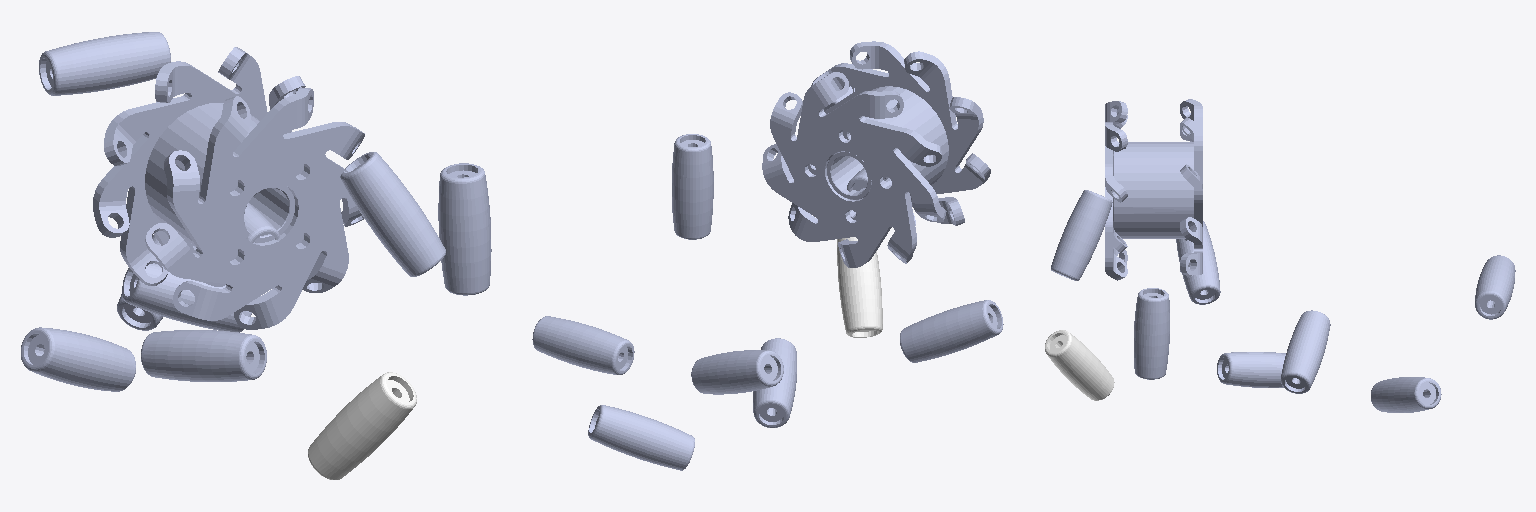
robot.urdf — Mecanum - Right.URDF:
<?xml version="1.0" encoding="utf-8"?>
<!-- This URDF was automatically created by SolidWorks to URDF Exporter! Originally created by [author] ([email redacted]) 
     Commit Version: 1.6.0-4-g7f85cfe  Build Version: 1.6.7995.38578
     For more information, please see http://wiki.ros.org/sw_urdf_exporter -->
<robot
  name="Mecanum - Right.URDF">
  <link
    name="Right_Base_Link">
    <inertial>
      <origin
        xyz="0.0046579 -6.9389E-18 -5.5836E-18"
        rpy="0 0 0" />
      <mass
        value="0.011093" />
      <inertia
        ixx="1.3992E-06"
        ixy="8.9634E-22"
        ixz="2.6007E-21"
        iyy="9.4923E-07"
        iyz="-1.3524E-22"
        izz="9.4923E-07" />
    </inertial>
    <visual>
      <origin
        xyz="0 0 0"
        rpy="0 0 0" />
      <geometry>
        <mesh
          filename="package://Mecanum - Right.URDF/meshes/Right_Base_Link.STL" />
      </geometry>
      <material
        name="">
        <color
          rgba="0.79216 0.81961 0.93333 1" />
      </material>
    </visual>
    <collision>
      <origin
        xyz="0 0 0"
        rpy="0 0 0" />
      <geometry>
        <mesh
          filename="package://Mecanum - Right.URDF/meshes/Right_Base_Link.STL" />
      </geometry>
    </collision>
  </link>
  <link
    name="Mecanum_Roller_Link1">
    <inertial>
      <origin
        xyz="-7.14706072102445E-16 0 0"
        rpy="0 0 0" />
      <mass
        value="0.00104310145784987" />
      <inertia
        ixx="9.96758957260103E-09"
        ixy="4.75628852217991E-24"
        ixz="-2.48154183765908E-24"
        iyy="3.79225492604176E-08"
        iyz="0"
        izz="3.79225492604175E-08" />
    </inertial>
    <visual>
      <origin
        xyz="0 0 0"
        rpy="0 0 0" />
      <geometry>
        <mesh
          filename="package://Mecanum - Right.URDF/meshes/Mecanum_Roller_Link1.STL" />
      </geometry>
      <material
        name="">
        <color
          rgba="0.792156862745098 0.819607843137255 0.933333333333333 1" />
      </material>
    </visual>
    <collision>
      <origin
        xyz="0 0 0"
        rpy="0 0 0" />
      <geometry>
        <mesh
          filename="package://Mecanum - Right.URDF/meshes/Mecanum_Roller_Link1.STL" />
      </geometry>
    </collision>
  </link>
  <joint
    name="Mecanum_Roller_1"
    type="continuous">
    <origin
      xyz="0.0046501 -0.016264 -0.0057506"
      rpy="-2.4237 -0.72678 -0.32955" />
    <parent
      link="Right_Base_Link" />
    <child
      link="Mecanum_Roller_Link1" />
    <axis
      xyz="-1 0 0" />
  </joint>
  <link
    name="Mecanum_Roller_Link2">
    <inertial>
      <origin
        xyz="-7.07767178198537E-16 1.73472347597681E-18 -1.73472347597681E-18"
        rpy="0 0 0" />
      <mass
        value="0.00104310145784987" />
      <inertia
        ixx="9.96758957260103E-09"
        ixy="3.72231275648862E-24"
        ixz="6.72084247699335E-24"
        iyy="3.79225492604175E-08"
        iyz="0"
        izz="3.79225492604176E-08" />
    </inertial>
    <visual>
      <origin
        xyz="0 0 0"
        rpy="0 0 0" />
      <geometry>
        <mesh
          filename="package://Mecanum - Right.URDF/meshes/Mecanum_Roller_Link2.STL" />
      </geometry>
      <material
        name="">
        <color
          rgba="0.792156862745098 0.819607843137255 0.933333333333333 1" />
      </material>
    </visual>
    <collision>
      <origin
        xyz="0 0 0"
        rpy="0 0 0" />
      <geometry>
        <mesh
          filename="package://Mecanum - Right.URDF/meshes/Mecanum_Roller_Link2.STL" />
      </geometry>
    </collision>
  </link>
  <joint
    name="Mecanum_Roller_2"
    type="continuous">
    <origin
      xyz="0.0046501 -0.0087625 -0.01486"
      rpy="-0.010439 -0.36137 -0.71372" />
    <parent
      link="Right_Base_Link" />
    <child
      link="Mecanum_Roller_Link2" />
    <axis
      xyz="-1 0 0" />
  </joint>
  <link
    name="Mecanum_Roller_Link3">
    <inertial>
      <origin
        xyz="-7.14706072102445E-16 -3.46944695195361E-18 6.93889390390723E-18"
        rpy="0 0 0" />
      <mass
        value="0.00104310145784987" />
      <inertia
        ixx="9.96758957203706E-09"
        ixy="-1.24077091882954E-24"
        ixz="-1.65436122510606E-24"
        iyy="3.79225492601356E-08"
        iyz="4.13590306276514E-24"
        izz="3.79225492601356E-08" />
    </inertial>
    <visual>
      <origin
        xyz="0 0 0"
        rpy="0 0 0" />
      <geometry>
        <mesh
          filename="package://Mecanum - Right.URDF/meshes/Mecanum_Roller_Link3.STL" />
      </geometry>
      <material
        name="">
        <color
          rgba="0.792156862745098 0.819607843137255 0.933333333333333 1" />
      </material>
    </visual>
    <collision>
      <origin
        xyz="0 0 0"
        rpy="0 0 0" />
      <geometry>
        <mesh
          filename="package://Mecanum - Right.URDF/meshes/Mecanum_Roller_Link3.STL" />
      </geometry>
    </collision>
  </link>
  <joint
    name="Mecanum_Roller_3"
    type="continuous">
    <origin
      xyz="0.0046501 0.0028391 -0.017016"
      rpy="-1.9415 0.1231 -0.77774" />
    <parent
      link="Right_Base_Link" />
    <child
      link="Mecanum_Roller_Link3" />
    <axis
      xyz="-1 0 0" />
  </joint>
  <link
    name="Mecanum_Roller_Link4">
    <inertial>
      <origin
        xyz="-7.14706072102445E-16 -1.04083408558608E-17 0"
        rpy="0 0 0" />
      <mass
        value="0.00104310145784984" />
      <inertia
        ixx="9.96758957238033E-09"
        ixy="1.24077091882954E-24"
        ixz="-1.4475660719678E-24"
        iyy="3.79225492603072E-08"
        iyz="-6.20385459414771E-24"
        izz="3.79225492603072E-08" />
    </inertial>
    <visual>
      <origin
        xyz="0 0 0"
        rpy="0 0 0" />
      <geometry>
        <mesh
          filename="package://Mecanum - Right.URDF/meshes/Mecanum_Roller_Link4.STL" />
      </geometry>
      <material
        name="">
        <color
          rgba="0.792156862745098 0.819607843137255 0.933333333333333 1" />
      </material>
    </visual>
    <collision>
      <origin
        xyz="0 0 0"
        rpy="0 0 0" />
      <geometry>
        <mesh
          filename="package://Mecanum - Right.URDF/meshes/Mecanum_Roller_Link4.STL" />
      </geometry>
    </collision>
  </link>
  <joint
    name="Mecanum_Roller_4"
    type="continuous">
    <origin
      xyz="0.0046501 0.013112 -0.01121"
      rpy="0.28164 0.57243 -0.57129" />
    <parent
      link="Right_Base_Link" />
    <child
      link="Mecanum_Roller_Link4" />
    <axis
      xyz="-1 0 0" />
  </joint>
  <link
    name="Mecanum_Roller_Link5">
    <inertial>
      <origin
        xyz="-7.11236625150491E-16 0 0"
        rpy="0 0 0" />
      <mass
        value="0.00104310145784987" />
      <inertia
        ixx="9.96758957191813E-09"
        ixy="1.24077091882954E-24"
        ixz="-3.05022850878929E-24"
        iyy="3.79225492600558E-08"
        iyz="6.20385459414771E-24"
        izz="3.79225492600558E-08" />
    </inertial>
    <visual>
      <origin
        xyz="0 0 0"
        rpy="0 0 0" />
      <geometry>
        <mesh
          filename="package://Mecanum - Right.URDF/meshes/Mecanum_Roller_Link5.STL" />
      </geometry>
      <material
        name="">
        <color
          rgba="0.792156862745098 0.819607843137255 0.933333333333333 1" />
      </material>
    </visual>
    <collision>
      <origin
        xyz="0 0 0"
        rpy="0 0 0" />
      <geometry>
        <mesh
          filename="package://Mecanum - Right.URDF/meshes/Mecanum_Roller_Link5.STL" />
      </geometry>
    </collision>
  </link>
  <joint
    name="Mecanum_Roller_5"
    type="continuous">
    <origin
      xyz="0.0046501 0.01725 -0.00015879"
      rpy="-1.4136 0.7854 0" />
    <parent
      link="Right_Base_Link" />
    <child
      link="Mecanum_Roller_Link5" />
    <axis
      xyz="-1 0 0" />
  </joint>
  <link
    name="Mecanum_Roller_Link6">
    <inertial>
      <origin
        xyz="-7.12971348626468E-16 0 6.93889390390723E-18"
        rpy="0 0 0" />
      <mass
        value="0.00104310145784992" />
      <inertia
        ixx="9.96758957237164E-09"
        ixy="5.09233064602958E-24"
        ixz="-3.30872245021211E-24"
        iyy="3.79225492603231E-08"
        iyz="-2.48154183765908E-24"
        izz="3.79225492603231E-08" />
    </inertial>
    <visual>
      <origin
        xyz="0 0 0"
        rpy="0 0 0" />
      <geometry>
        <mesh
          filename="package://Mecanum - Right.URDF/meshes/Mecanum_Roller_Link6.STL" />
      </geometry>
      <material
        name="">
        <color
          rgba="0.792156862745098 0.819607843137255 0.933333333333333 1" />
      </material>
    </visual>
    <collision>
      <origin
        xyz="0 0 0"
        rpy="0 0 0" />
      <geometry>
        <mesh
          filename="package://Mecanum - Right.URDF/meshes/Mecanum_Roller_Link6.STL" />
      </geometry>
    </collision>
  </link>
  <joint
    name="Mecanum_Roller_6"
    type="continuous">
    <origin
      xyz="0.0046501 0.013316 0.010966"
      rpy="0.94649 0.57243 0.57129" />
    <parent
      link="Right_Base_Link" />
    <child
      link="Mecanum_Roller_Link6" />
    <axis
      xyz="-1 0 0" />
  </joint>
  <link
    name="Mecanum_Roller_Link7">
    <inertial>
      <origin
        xyz="-7.19910242530375E-16 3.46944695195361E-18 6.93889390390723E-18"
        rpy="0 0 0" />
      <mass
        value="0.00104310145784987" />
      <inertia
        ixx="9.96758957226301E-09"
        ixy="4.03250548619601E-24"
        ixz="-1.24077091882954E-24"
        iyy="3.79225492602485E-08"
        iyz="8.27180612553028E-25"
        izz="3.79225492602485E-08" />
    </inertial>
    <visual>
      <origin
        xyz="0 0 0"
        rpy="0 0 0" />
      <geometry>
        <mesh
          filename="package://Mecanum - Right.URDF/meshes/Mecanum_Roller_Link7.STL" />
      </geometry>
      <material
        name="">
        <color
          rgba="0.792156862745098 0.819607843137255 0.933333333333333 1" />
      </material>
    </visual>
    <collision>
      <origin
        xyz="0 0 0"
        rpy="0 0 0" />
      <geometry>
        <mesh
          filename="package://Mecanum - Right.URDF/meshes/Mecanum_Roller_Link7.STL" />
      </geometry>
    </collision>
  </link>
  <joint
    name="Mecanum_Roller_7"
    type="continuous">
    <origin
      xyz="0.0046501 0.0031518 0.01696"
      rpy="-1.7299 -0.1231 -2.3638" />
    <parent
      link="Right_Base_Link" />
    <child
      link="Mecanum_Roller_Link7" />
    <axis
      xyz="-1 0 0" />
  </joint>
  <link
    name="Mecanum_Roller_Link8">
    <inertial>
      <origin
        xyz="-7.09501901674514E-16 0 -3.46944695195361E-18"
        rpy="0 0 0" />
      <mass
        value="0.00104310145784982" />
      <inertia
        ixx="9.96758957192888E-09"
        ixy="-1.24077091882954E-24"
        ixz="4.13590306276514E-25"
        iyy="3.79225492600814E-08"
        iyz="8.27180612553028E-25"
        izz="3.79225492600814E-08" />
    </inertial>
    <visual>
      <origin
        xyz="0 0 0"
        rpy="0 0 0" />
      <geometry>
        <mesh
          filename="package://Mecanum - Right.URDF/meshes/Mecanum_Roller_Link8.STL" />
      </geometry>
      <material
        name="">
        <color
          rgba="0.792156862745098 0.819607843137255 0.933333333333333 1" />
      </material>
    </visual>
    <collision>
      <origin
        xyz="0 0 0"
        rpy="0 0 0" />
      <geometry>
        <mesh
          filename="package://Mecanum - Right.URDF/meshes/Mecanum_Roller_Link8.STL" />
      </geometry>
    </collision>
  </link>
  <joint
    name="Mecanum_Roller_8"
    type="continuous">
    <origin
      xyz="0.0046501 -0.0084875 0.015018"
      rpy="3.0507 -0.36137 0.71372" />
    <parent
      link="Right_Base_Link" />
    <child
      link="Mecanum_Roller_Link8" />
    <axis
      xyz="-1 0 0" />
  </joint>
  <link
    name="Mecanum_Roller_Link9">
    <inertial>
      <origin
        xyz="0 0 0"
        rpy="0 0 0" />
      <mass
        value="0" />
      <inertia
        ixx="0"
        ixy="0"
        ixz="0"
        iyy="0"
        iyz="0"
        izz="0" />
    </inertial>
    <visual>
      <origin
        xyz="0 0 0"
        rpy="0 0 0" />
      <geometry>
        <mesh
          filename="package://Mecanum - Right.URDF/meshes/Mecanum_Roller_Link9.STL" />
      </geometry>
      <material
        name="">
        <color
          rgba="1 1 1 1" />
      </material>
    </visual>
    <collision>
      <origin
        xyz="0 0 0"
        rpy="0 0 0" />
      <geometry>
        <mesh
          filename="package://Mecanum - Right.URDF/meshes/Mecanum_Roller_Link9.STL" />
      </geometry>
    </collision>
  </link>
  <joint
    name="Mecanum_Roller_9"
    type="continuous">
    <origin
      xyz="0.0046501 -0.016155 0.0060491"
      rpy="-2.859 0.72678 -2.812" />
    <parent
      link="Right_Base_Link" />
    <child
      link="Mecanum_Roller_Link9" />
    <axis
      xyz="-1 0 0" />
  </joint>
</robot>

--- Facts derived from the render (not from the file) ---
Views: 3 orthographic renders of the robot side by side, from view 1: azimuth 30°, elevation 25°; view 2: azimuth 150°, elevation 25°; view 3: azimuth 270°, elevation 25°.
Robot: Mecanum - Right.URDF — 10 links, 9 joints (9 continuous); root link Right_Base_Link; default pose: all joints at 0.
Visible links, largest first — view 1: Right_Base_Link, Mecanum_Roller_Link7, Mecanum_Roller_Link5, Mecanum_Roller_Link6, Mecanum_Roller_Link9, Mecanum_Roller_Link1, Mecanum_Roller_Link2, Mecanum_Roller_Link8, Mecanum_Roller_Link3, Mecanum_Roller_Link4; view 2: Right_Base_Link, Mecanum_Roller_Link3, Mecanum_Roller_Link2, Mecanum_Roller_Link6, Mecanum_Roller_Link5, Mecanum_Roller_Link8, Mecanum_Roller_Link9, Mecanum_Roller_Link1; view 3: Right_Base_Link, Mecanum_Roller_Link7, Mecanum_Roller_Link6, Mecanum_Roller_Link8, Mecanum_Roller_Link9, Mecanum_Roller_Link1, Mecanum_Roller_Link3, Mecanum_Roller_Link5, Mecanum_Roller_Link2.
Boxes of the visible links, bbox=[...] form: Right_Base_Link: bbox=[93, 47, 364, 329]; Mecanum_Roller_Link7: bbox=[340, 152, 445, 276]; Mecanum_Roller_Link5: bbox=[39, 32, 170, 95]; Mecanum_Roller_Link6: bbox=[438, 163, 491, 295]; Mecanum_Roller_Link9: bbox=[308, 372, 416, 479]; Mecanum_Roller_Link1: bbox=[141, 330, 266, 381]; Mecanum_Roller_Link2: bbox=[21, 327, 135, 391]; Mecanum_Roller_Link8: bbox=[122, 263, 251, 332]; Mecanum_Roller_Link3: bbox=[117, 235, 194, 330]; Mecanum_Roller_Link4: bbox=[238, 203, 279, 250]; Right_Base_Link: bbox=[762, 41, 990, 267]; Mecanum_Roller_Link3: bbox=[588, 405, 694, 470]; Mecanum_Roller_Link2: bbox=[900, 300, 1003, 362]; Mecanum_Roller_Link6: bbox=[672, 134, 713, 239]; Mecanum_Roller_Link5: bbox=[532, 316, 634, 374]; Mecanum_Roller_Link8: bbox=[691, 350, 783, 394]; Mecanum_Roller_Link9: bbox=[837, 237, 882, 337]; Mecanum_Roller_Link1: bbox=[753, 338, 796, 427]; Right_Base_Link: bbox=[1105, 99, 1202, 280]; Mecanum_Roller_Link7: bbox=[1051, 190, 1112, 280]; Mecanum_Roller_Link6: bbox=[1134, 288, 1169, 379]; Mecanum_Roller_Link8: bbox=[1281, 310, 1330, 393]; Mecanum_Roller_Link9: bbox=[1045, 330, 1114, 400]; Mecanum_Roller_Link1: bbox=[1217, 352, 1285, 387]; Mecanum_Roller_Link3: bbox=[1371, 377, 1441, 412]; Mecanum_Roller_Link5: bbox=[1475, 255, 1515, 319]; Mecanum_Roller_Link2: bbox=[1176, 221, 1220, 304].
Size in the robot's own frame: 0.0836 by 0.1136 by 0.0736 metres.
Meshes: 10 distinct files referenced, 10 mesh visuals loaded (10 binary STL).